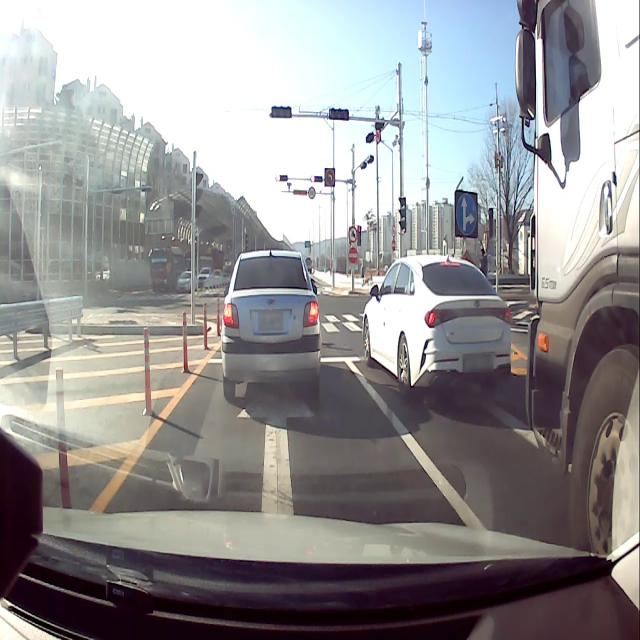Red Light: (310, 175, 316, 182), (276, 174, 280, 182)
